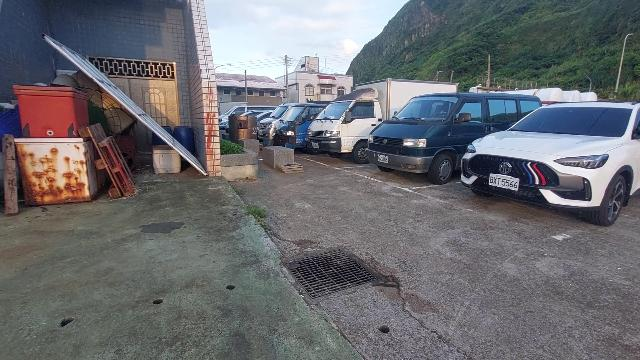pollute: (13, 70, 142, 205), (1, 133, 18, 215), (151, 143, 183, 175), (162, 125, 193, 154), (2, 104, 19, 135)
